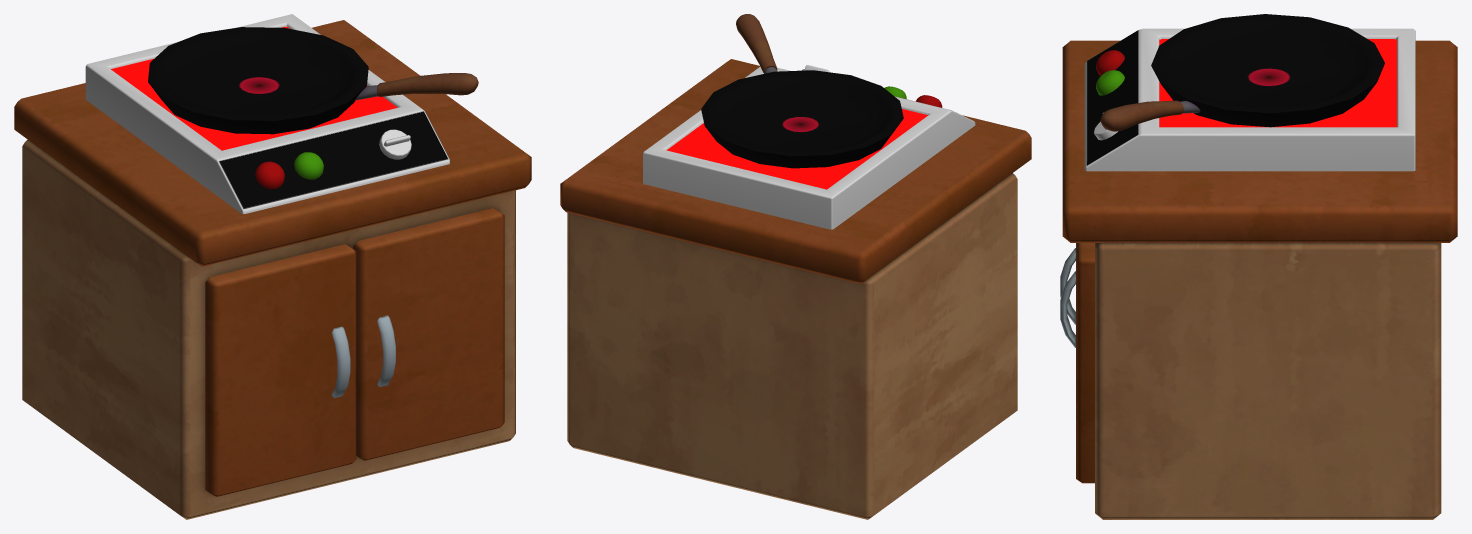
The model's file is StoveCounter_Visual.glb.
3 views of the same model, side by side, from view 1: azimuth 30°, elevation 25°; view 2: azimuth 150°, elevation 25°; view 3: azimuth 270°, elevation 25° (orthographic). The views are drawn at different scales.
Parts seen in each view (by area): view 1: Counter, Stove, Frying Pan, StoveOnVisual; view 2: Counter, Frying Pan, Stove, StoveOnVisual; view 3: Counter, Stove, Frying Pan, StoveOnVisual.
Part boxes in pixels (left/top/right/bottom): Counter: left=14, top=20, right=531, bottom=519; Stove: left=85, top=14, right=449, bottom=213; Frying Pan: left=148, top=27, right=478, bottom=134; StoveOnVisual: left=111, top=26, right=397, bottom=150; Counter: left=560, top=59, right=1031, bottom=519; Frying Pan: left=701, top=14, right=903, bottom=168; Stove: left=643, top=65, right=975, bottom=229; StoveOnVisual: left=666, top=109, right=927, bottom=189; Counter: left=1060, top=40, right=1457, bottom=519; Stove: left=1084, top=28, right=1415, bottom=171; Frying Pan: left=1100, top=14, right=1384, bottom=131; StoveOnVisual: left=1159, top=39, right=1396, bottom=127.
Size of the model in its own units: 1.48 by 1.57 by 1.45.
Materials: 4 (3 with a texture image).
